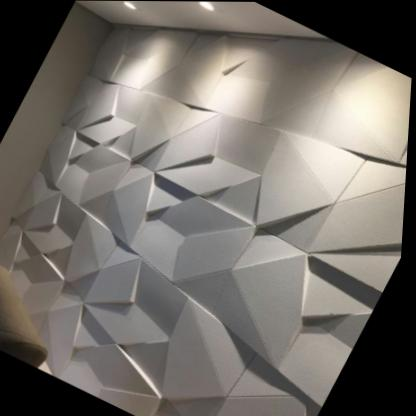Futech tiles: (28, 26, 411, 396)
